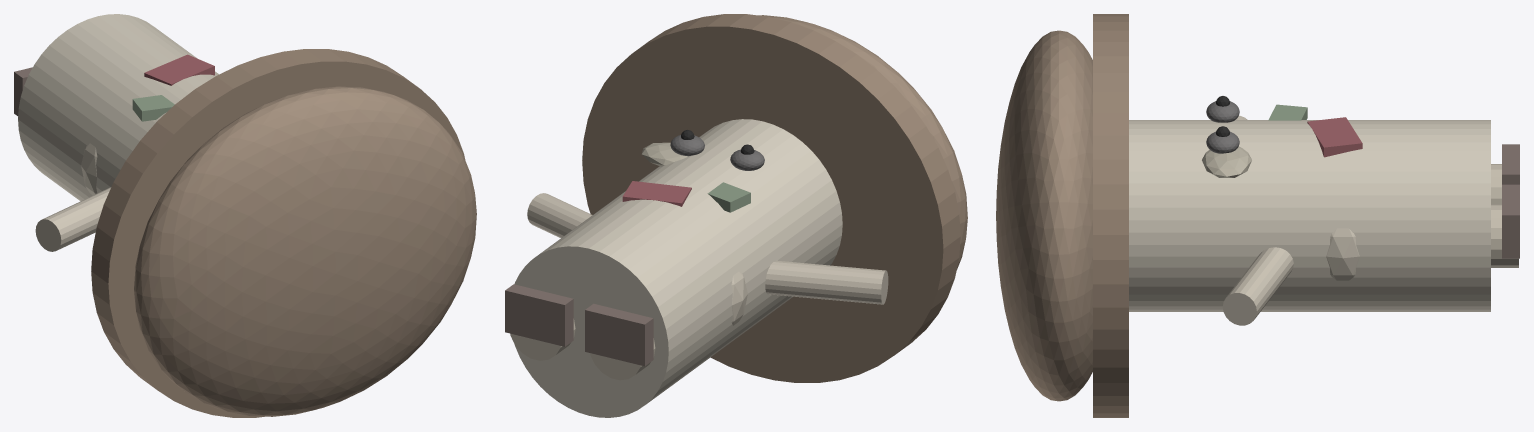
File: eringi_human.glb
3 views of the same model, side by side, from view 1: azimuth 30°, elevation 25°; view 2: azimuth 150°, elevation 25°; view 3: azimuth 270°, elevation 25° (orthographic). The views are drawn at different scales.
Visible parts, largest first — view 1: world; view 2: world; view 3: world.
Part boxes in pixels (box(x1,y1,x2,y2)): world: box(14, 14, 476, 417); world: box(505, 14, 967, 417); world: box(996, 14, 1519, 417).
Bounding box in the file's own units: 1.09 × 0.9916 × 1.31.
